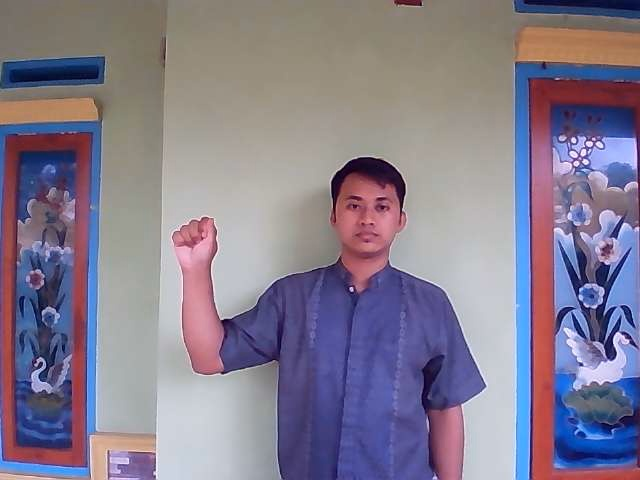A: (166, 210, 225, 285)
